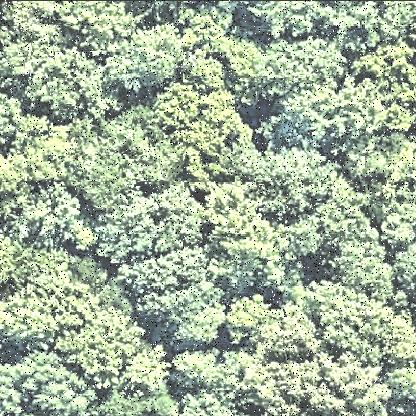tree-top: (103, 185, 223, 346), (62, 101, 186, 217), (238, 345, 392, 415), (237, 138, 339, 223), (13, 175, 97, 257), (342, 46, 416, 136), (3, 267, 93, 341), (104, 22, 186, 96), (27, 51, 109, 125), (327, 214, 397, 300), (254, 42, 354, 100), (13, 348, 95, 414), (173, 348, 241, 416), (246, 3, 328, 41), (224, 293, 275, 345)
